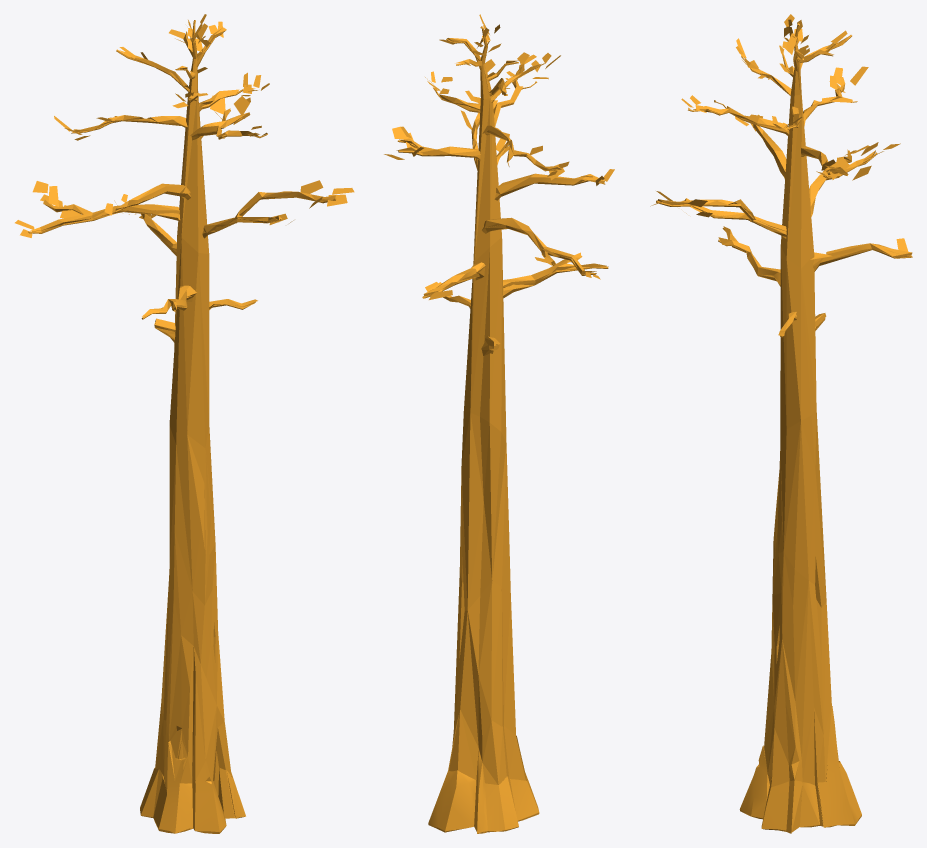
Rendered from SM_Tree_Sequoia_Dead_A_Snow.fbx.
3 views of the same model, side by side, from view 1: azimuth 30°, elevation 25°; view 2: azimuth 150°, elevation 25°; view 3: azimuth 270°, elevation 25° (orthographic).
Parts seen in each view (by area): view 1: tree-sequoia-dead-a-snow; view 2: tree-sequoia-dead-a-snow; view 3: tree-sequoia-dead-a-snow.
Boxes of the visible parts, left/top/right/bottom form: tree-sequoia-dead-a-snow: left=15, top=14, right=354, bottom=833; tree-sequoia-dead-a-snow: left=384, top=14, right=614, bottom=833; tree-sequoia-dead-a-snow: left=650, top=14, right=912, bottom=833.
Bounding box in the file's own units: 7.39 × 24.02 × 7.24.
